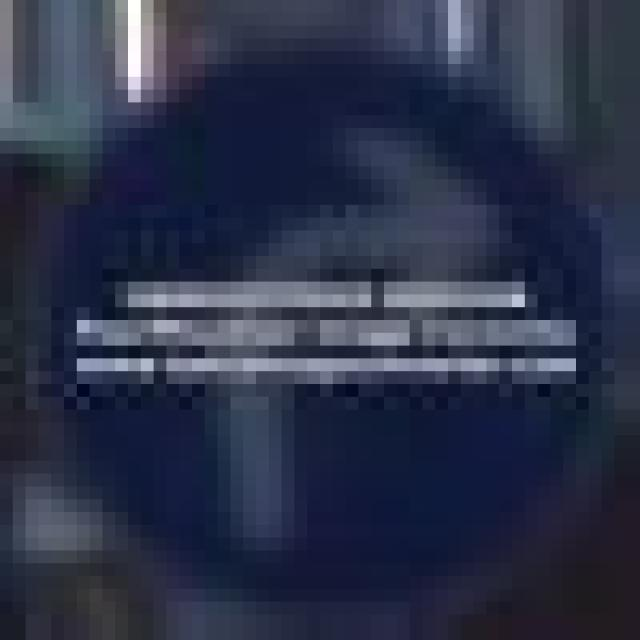railway_crossing: (38, 26, 589, 588)
